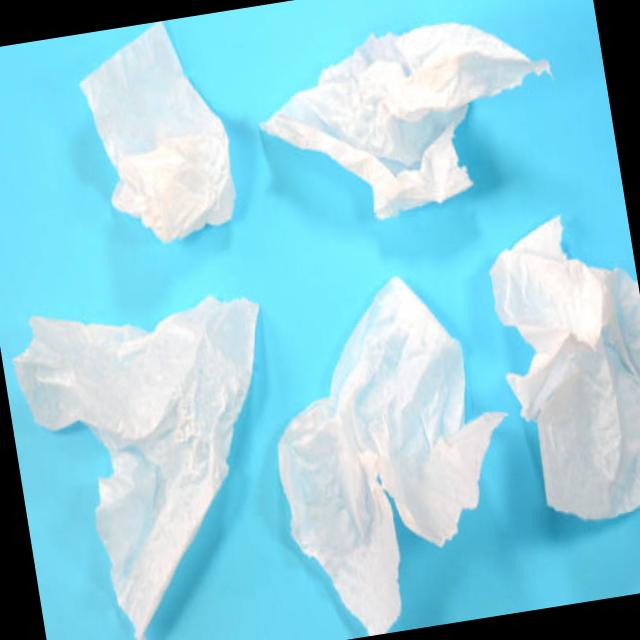electronic: (5, 278, 309, 640), (251, 260, 537, 640), (246, 3, 570, 235), (480, 202, 640, 531), (70, 14, 242, 252)
